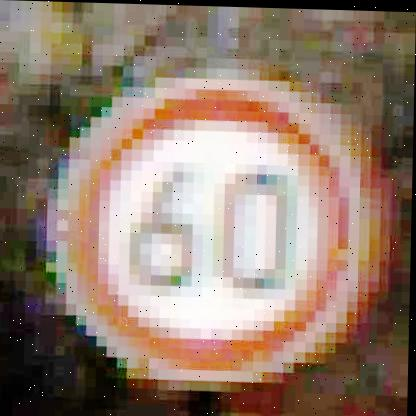Speed Limit -60-: (58, 69, 370, 385)
